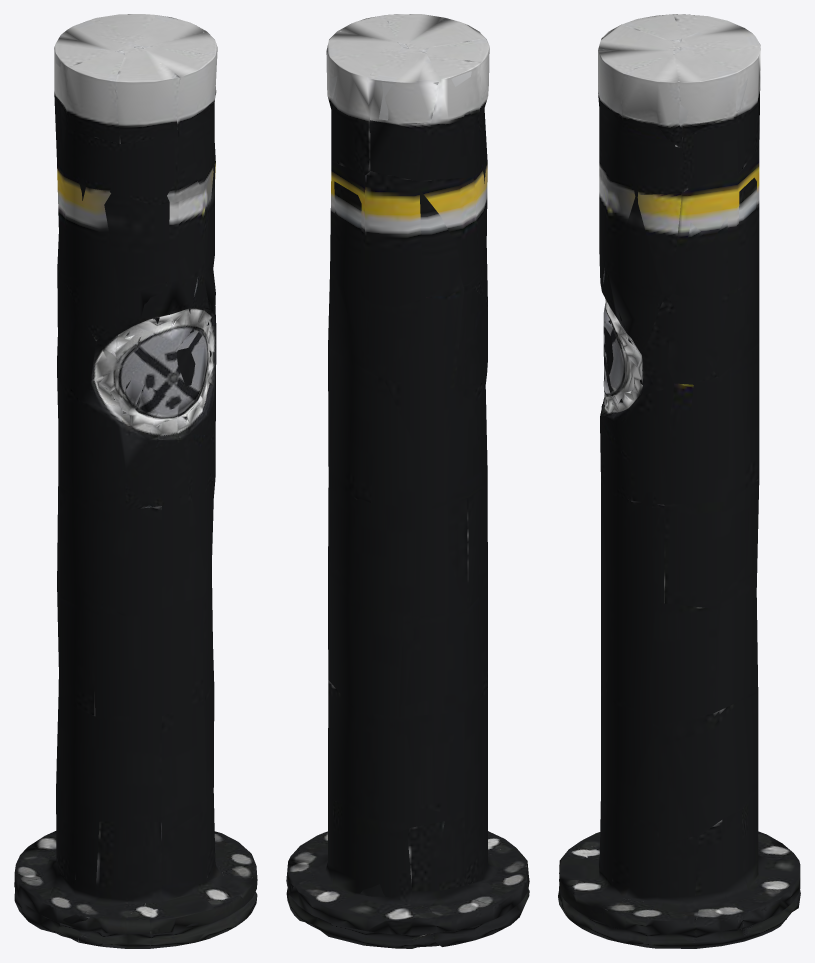
Rendered from bollard_a_p.glb.
3 views of the same model, side by side, from view 1: azimuth 30°, elevation 25°; view 2: azimuth 150°, elevation 25°; view 3: azimuth 270°, elevation 25° (orthographic).
Bounding box in the file's own units: 0.4919 × 1.9 × 0.4914.
1 material, 1 textured.
